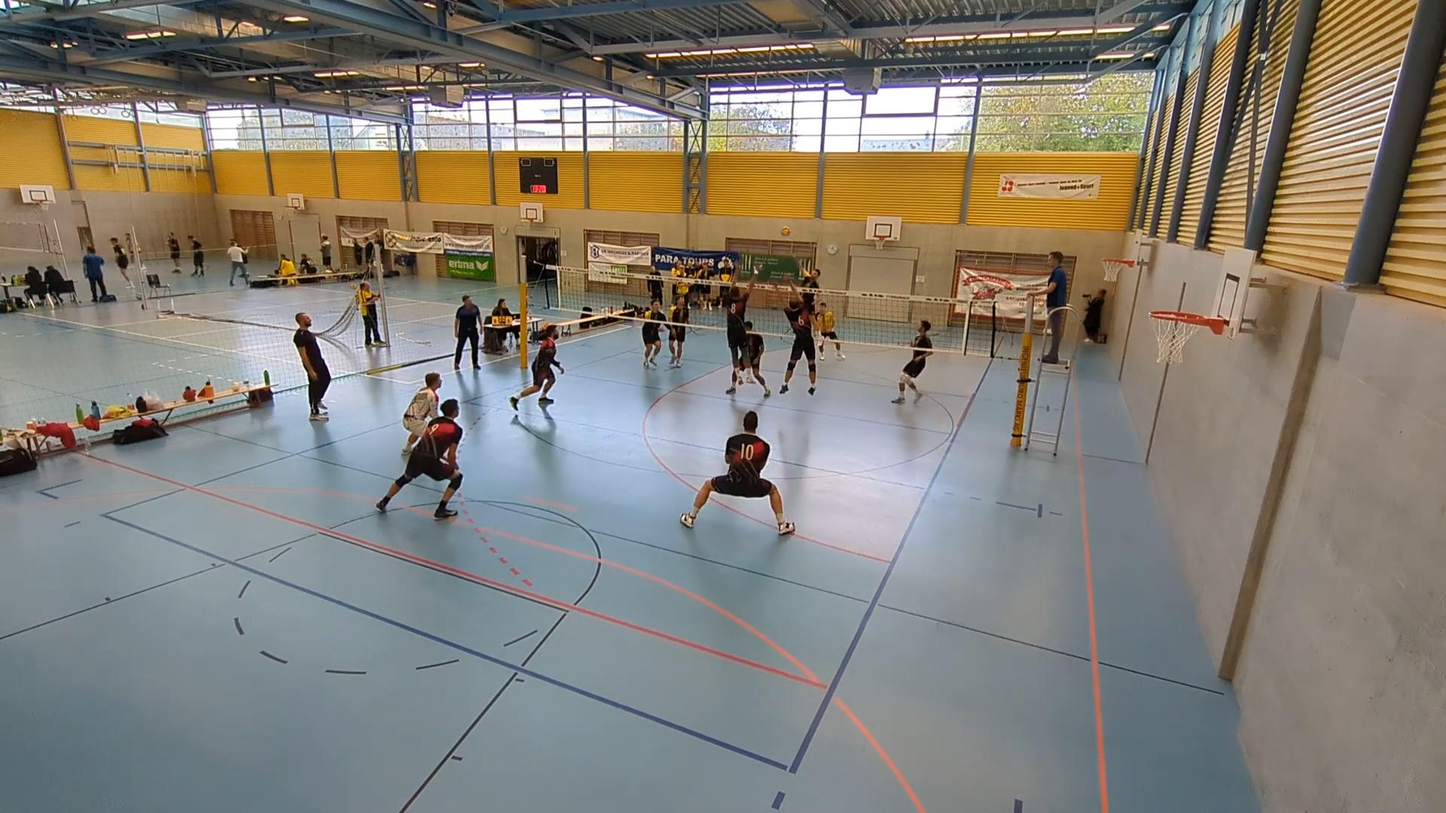Attack: (790, 253, 825, 316)
Block: (719, 267, 765, 388), (776, 278, 822, 397)
Player: (680, 411, 795, 534), (376, 399, 462, 519), (508, 324, 564, 410), (892, 320, 932, 403), (401, 373, 441, 454), (745, 321, 770, 396), (814, 303, 846, 360), (641, 298, 664, 368), (668, 295, 690, 367)
ball: (781, 225, 793, 240)
